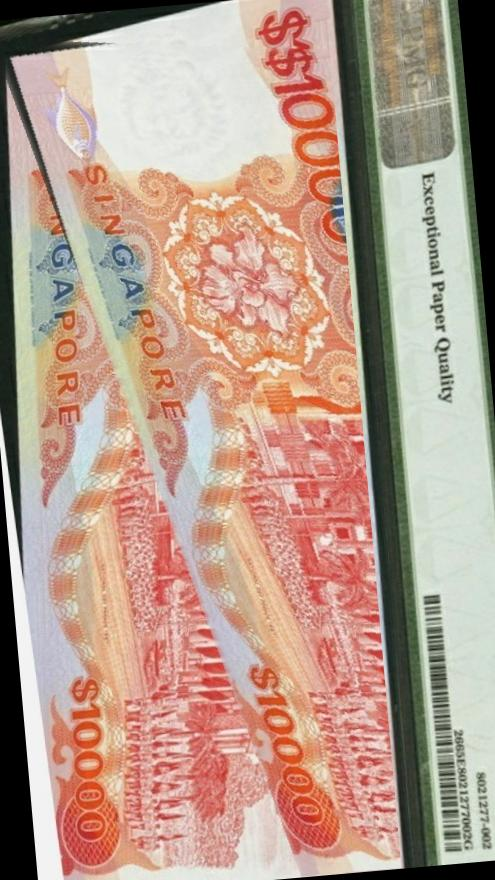10000SingaporeDollar: (0, 10, 401, 880)
